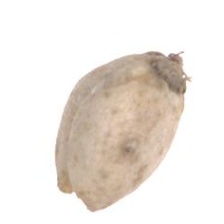L1: (147, 48, 191, 93), (54, 178, 100, 213)
L2: (54, 48, 192, 211)
